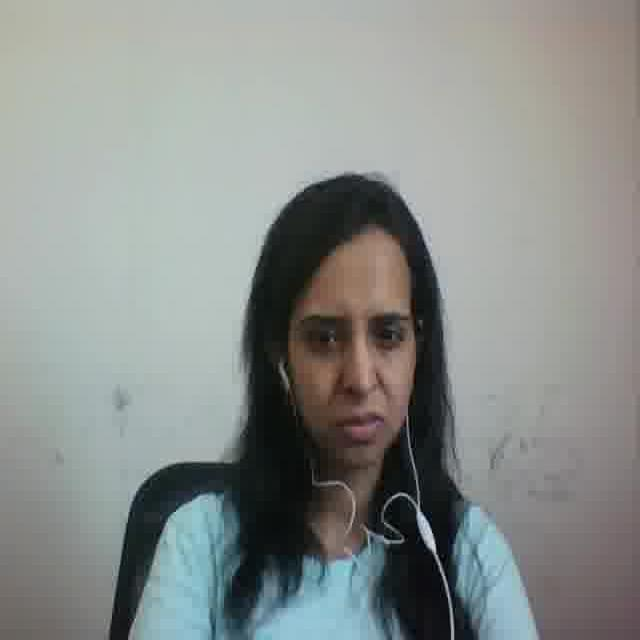Confusion: (285, 247, 411, 468)
